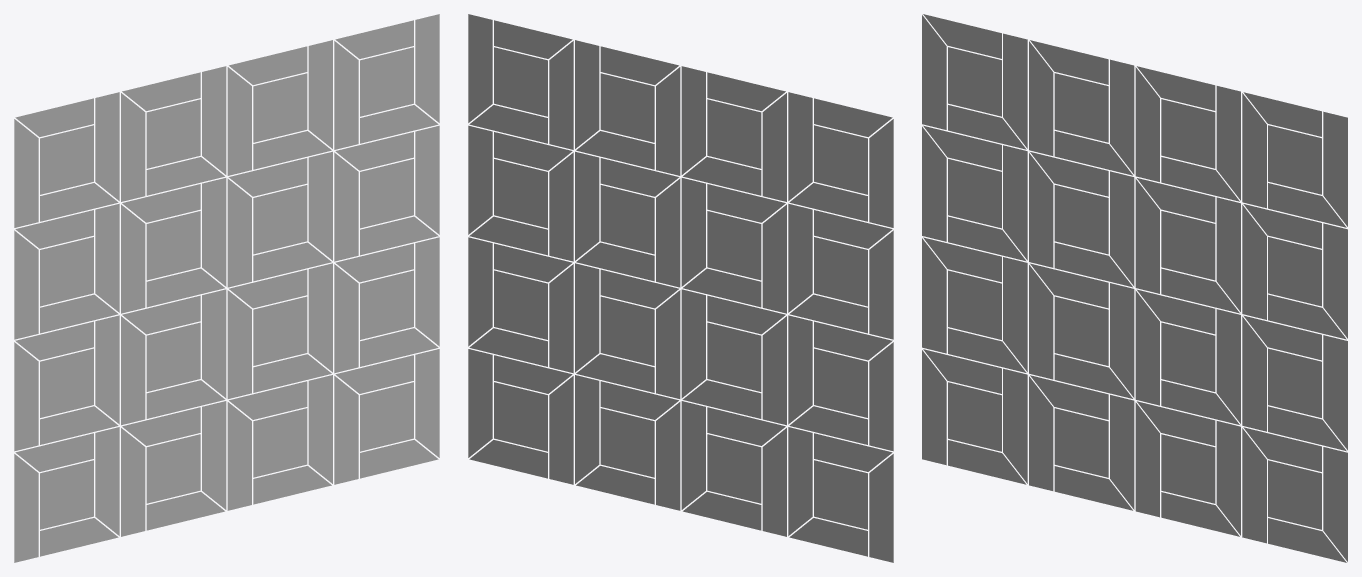
Rendered from geosquare.gltf.
3 renders of one model, left to right at view 1: azimuth 30°, elevation 25°; view 2: azimuth 150°, elevation 25°; view 3: azimuth 330°, elevation 25°, orthographic.
Visible parts, largest first — view 1: geosquare; view 2: geosquare; view 3: geosquare.
Boxes of the visible parts, left/top/right/bottom form: geosquare: left=14, top=14, right=439, bottom=562; geosquare: left=468, top=14, right=893, bottom=562; geosquare: left=922, top=14, right=1347, bottom=562.
Size of the model in its own units: 552 by 552 by 0.
Materials: 80 (80 with a texture image).
